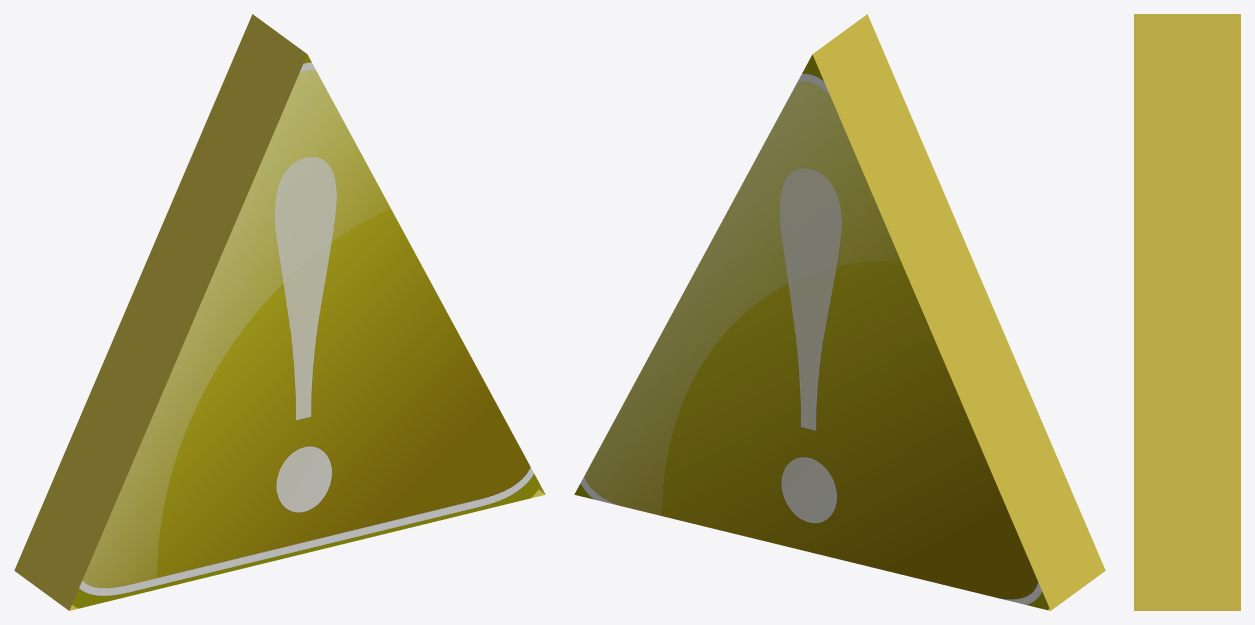
Rendered from Triangle.FBX.
3 views of the same model, side by side, from view 1: azimuth 30°, elevation 25°; view 2: azimuth 150°, elevation 25°; view 3: azimuth 270°, elevation 25° (orthographic). The views are drawn at different scales.
Parts seen in each view (by area): view 1: TriangleExclamation; view 2: TriangleExclamation; view 3: TriangleExclamation.
Part boxes in pixels (x1,y1,x2,y2): TriangleExclamation: (14,14,545,610); TriangleExclamation: (574,14,1105,610); TriangleExclamation: (1134,14,1240,610).
Bounding box in the file's own units: 3.94 × 3.94 × 0.7874.
Materials: 2 (1 with a texture image).
